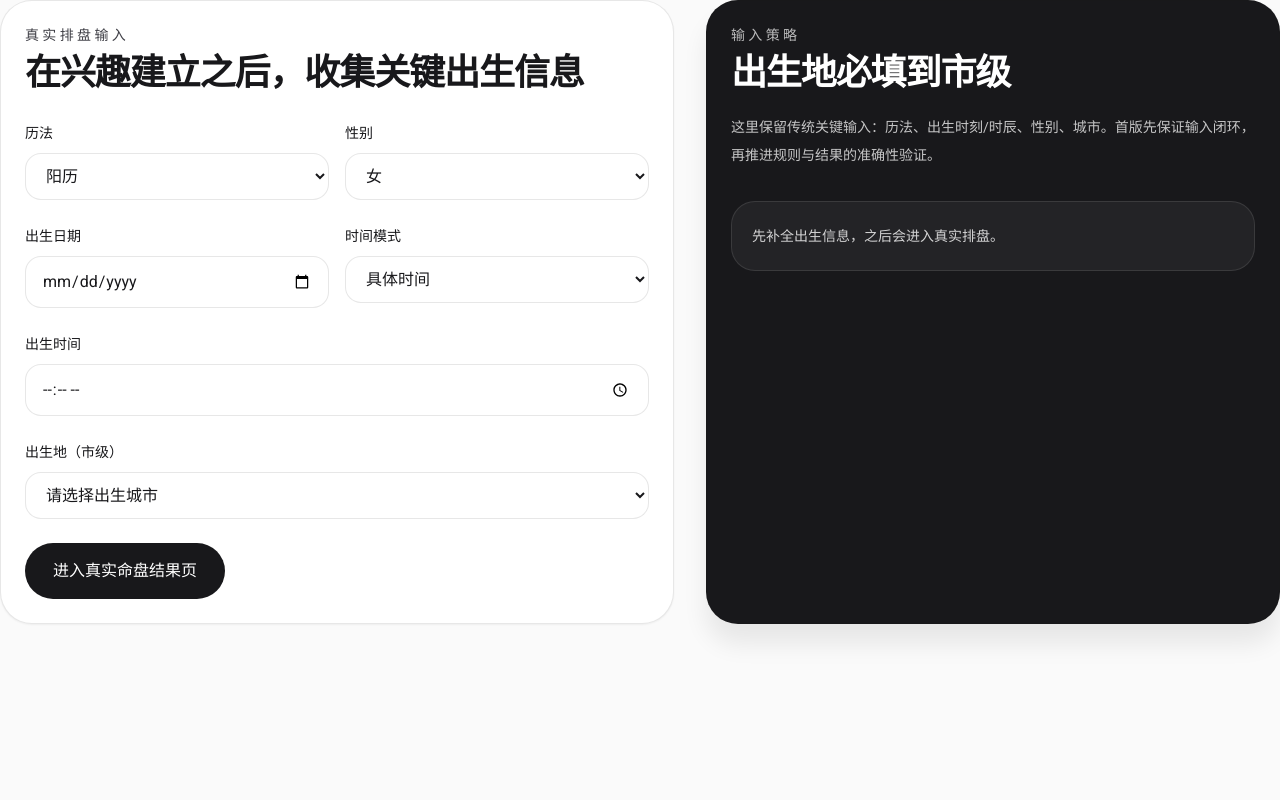
Test case: ChartForm › shows a retryable error when chart generation fails
Type "1995-08-18" into the date field labelled "出生日期" at x=177, y=282, box [25,256,329,308]
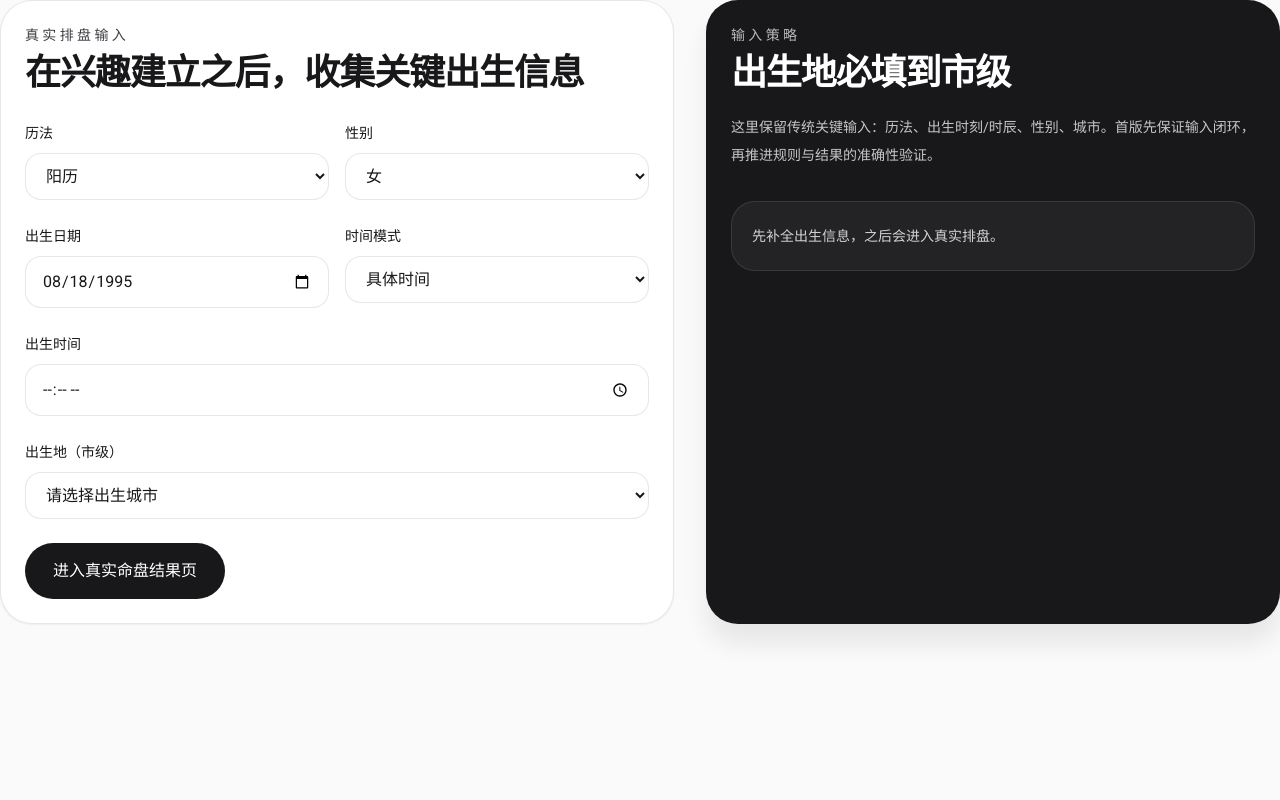
Type "09:30" into the time field labelled "出生时间" at x=337, y=390, box [25,364,649,416]
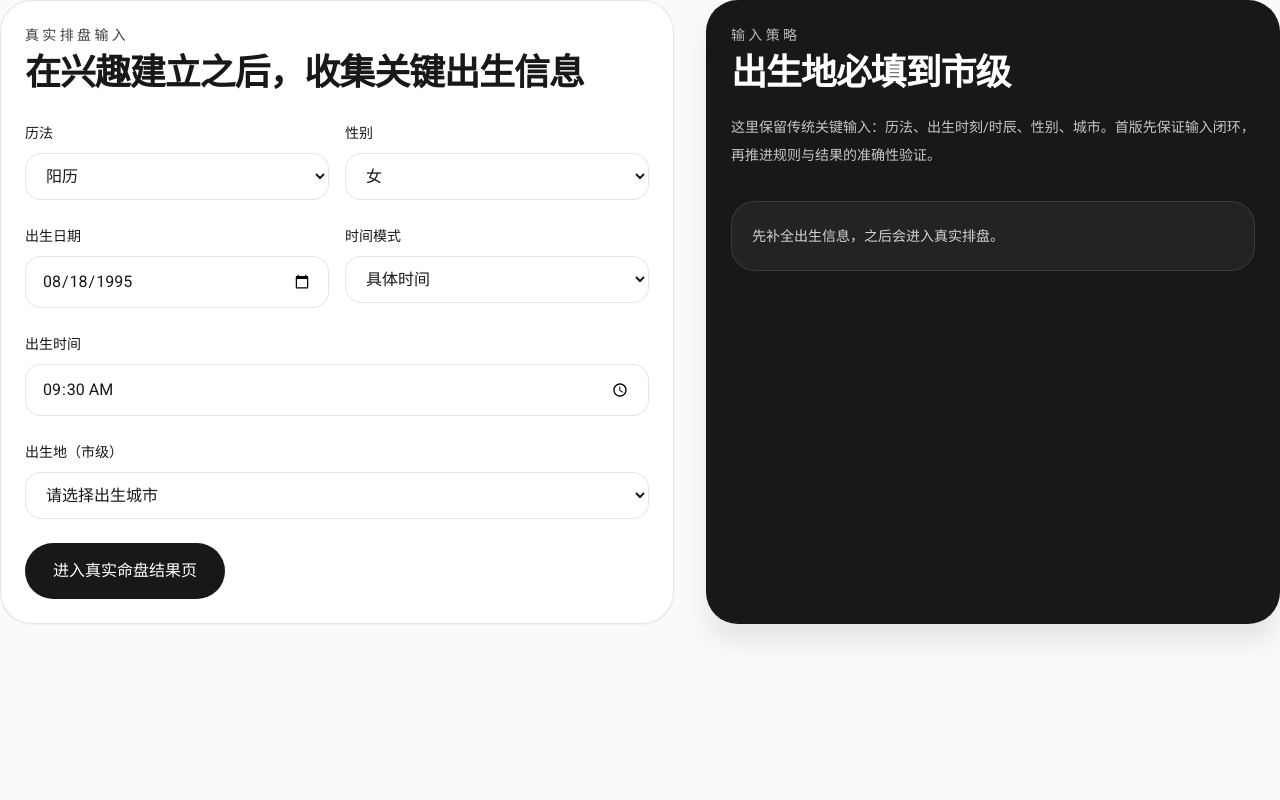
Select "上海市" in the dropdown labelled "出生地（市级）" at x=337, y=496, box [25,472,649,519]
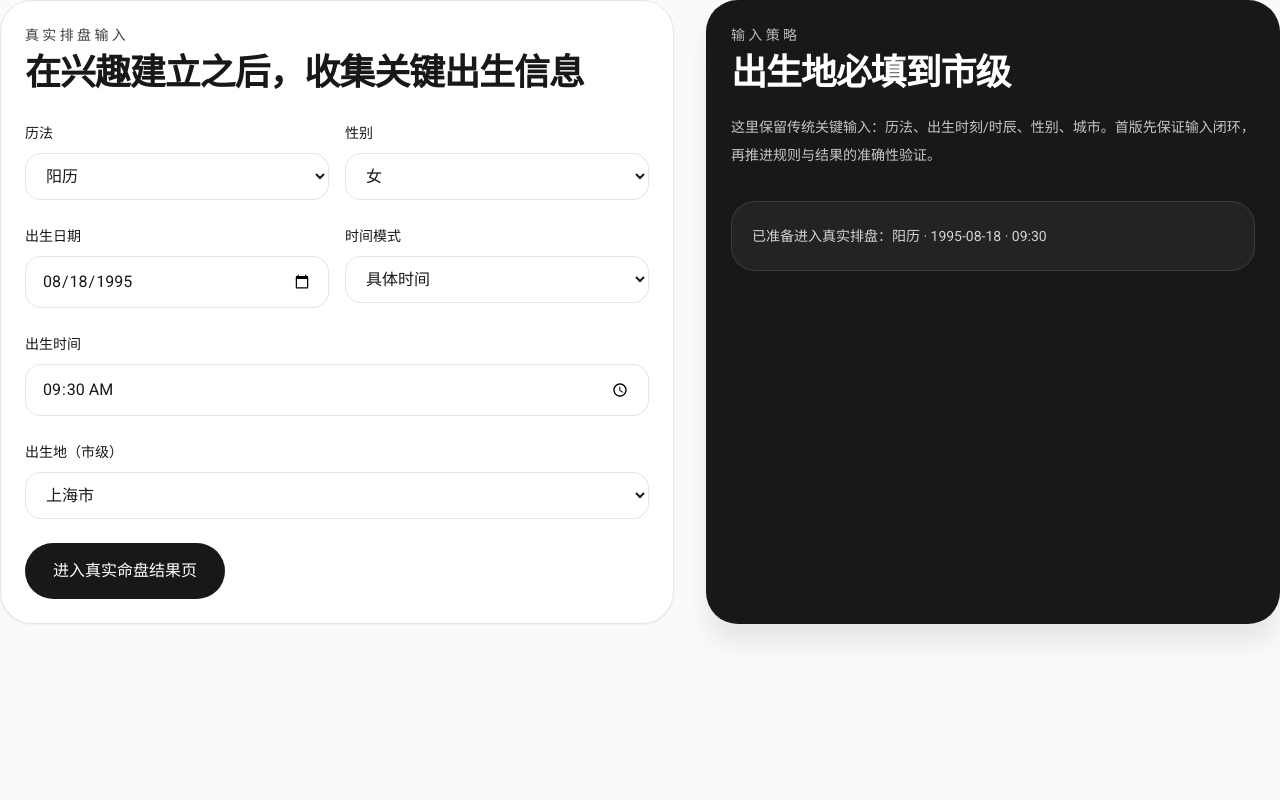
Click the button "进入真实命盘结果页" at x=125, y=571, box [25,543,225,599]
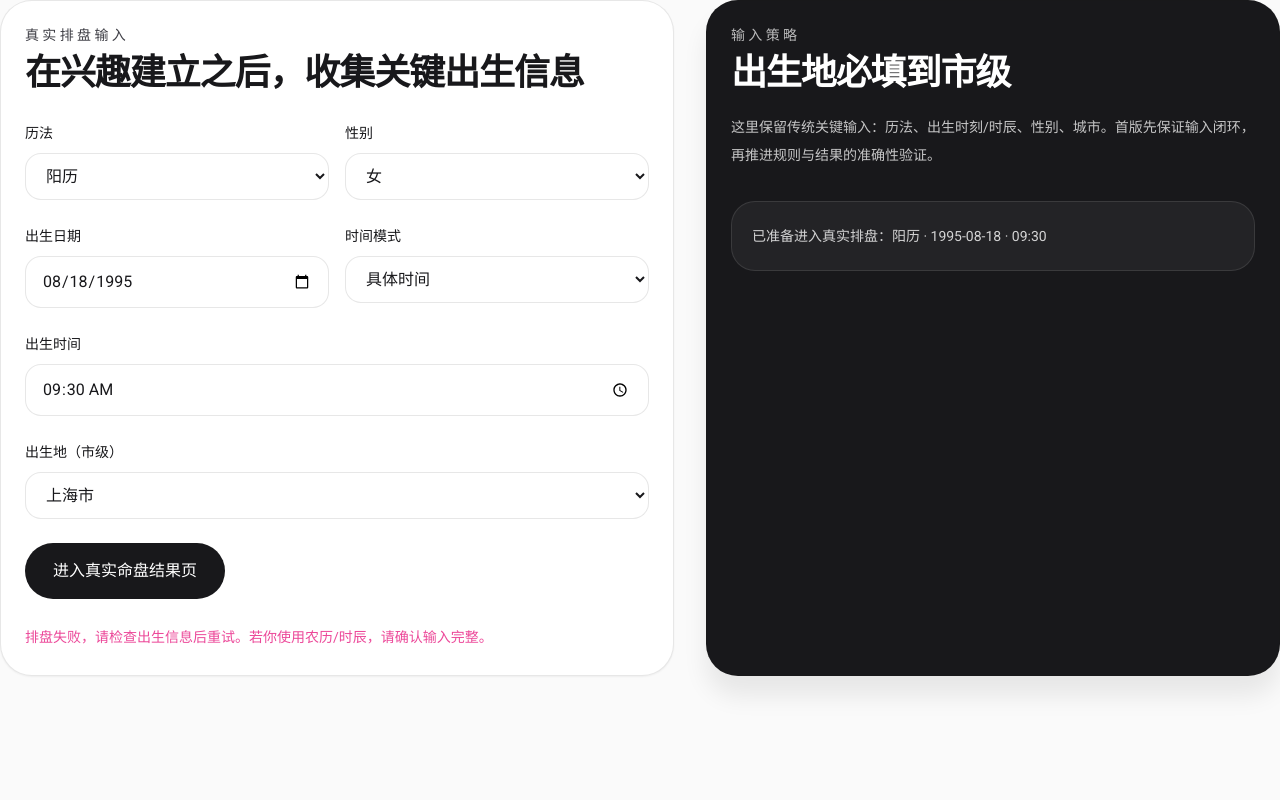
Expected: the text "排盘失败，请检查出生信息后重试。若你使用农历/时辰，请确认输入完整。" is shown, [25,629,493,645]
